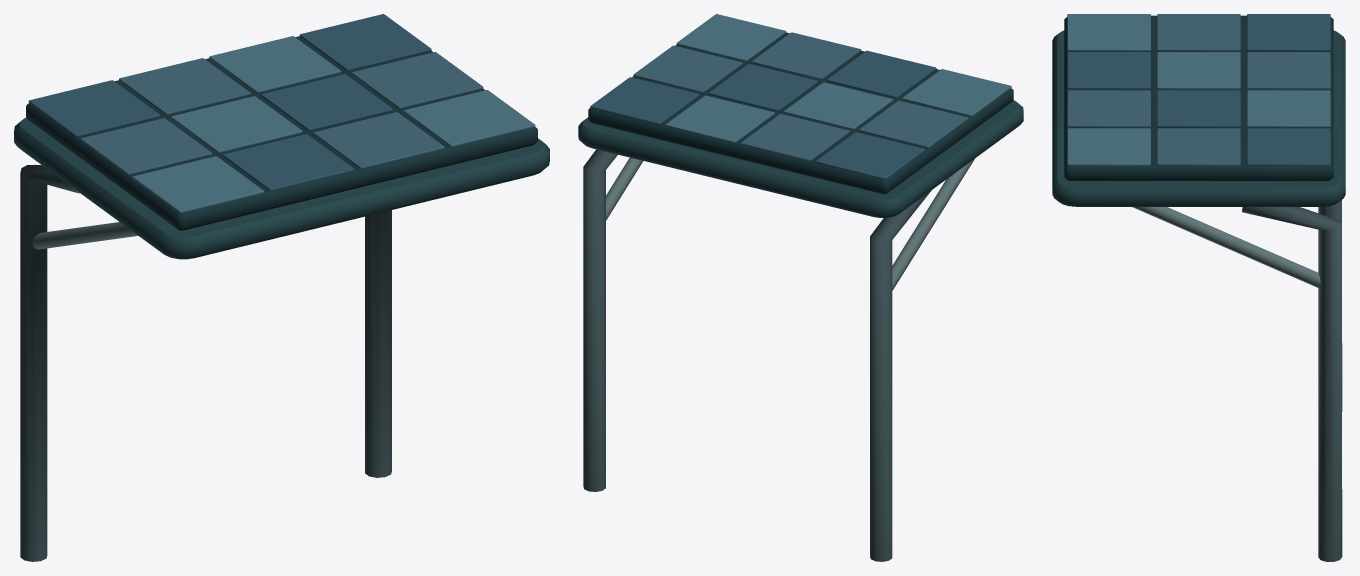
Rendered from ev_solar.glb.
3 views of the same model, side by side, from view 1: azimuth 30°, elevation 25°; view 2: azimuth 150°, elevation 25°; view 3: azimuth 270°, elevation 25° (orthographic). The views are drawn at different scales.
Visible parts, largest first — view 1: ev_solar; view 2: ev_solar; view 3: ev_solar.
Part boxes in pixels (bbox=[...]): ev_solar: bbox=[14, 14, 549, 561]; ev_solar: bbox=[578, 14, 1023, 561]; ev_solar: bbox=[1052, 14, 1345, 561].
Bounding box in the file's own units: 2.74 × 3.09 × 2.08.
